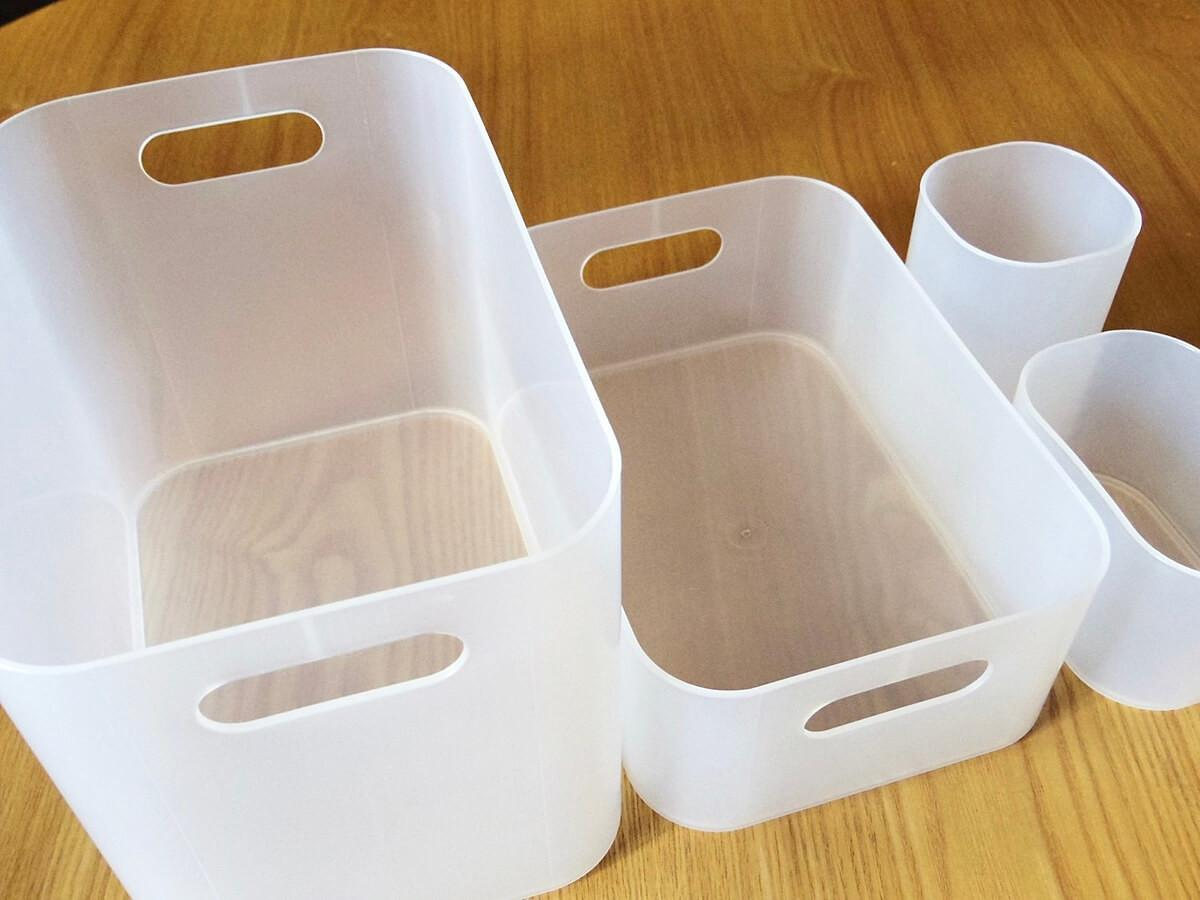plastic: (0, 50, 619, 899), (533, 177, 1199, 829), (1016, 330, 1199, 708)
